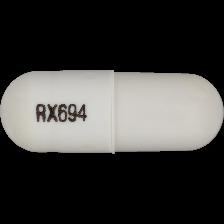54868-2390: (0, 0, 224, 224)
